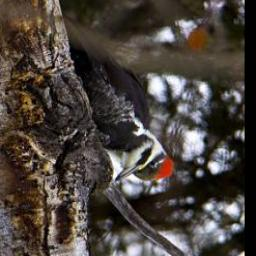Woodpecker: (72, 38, 179, 184)
